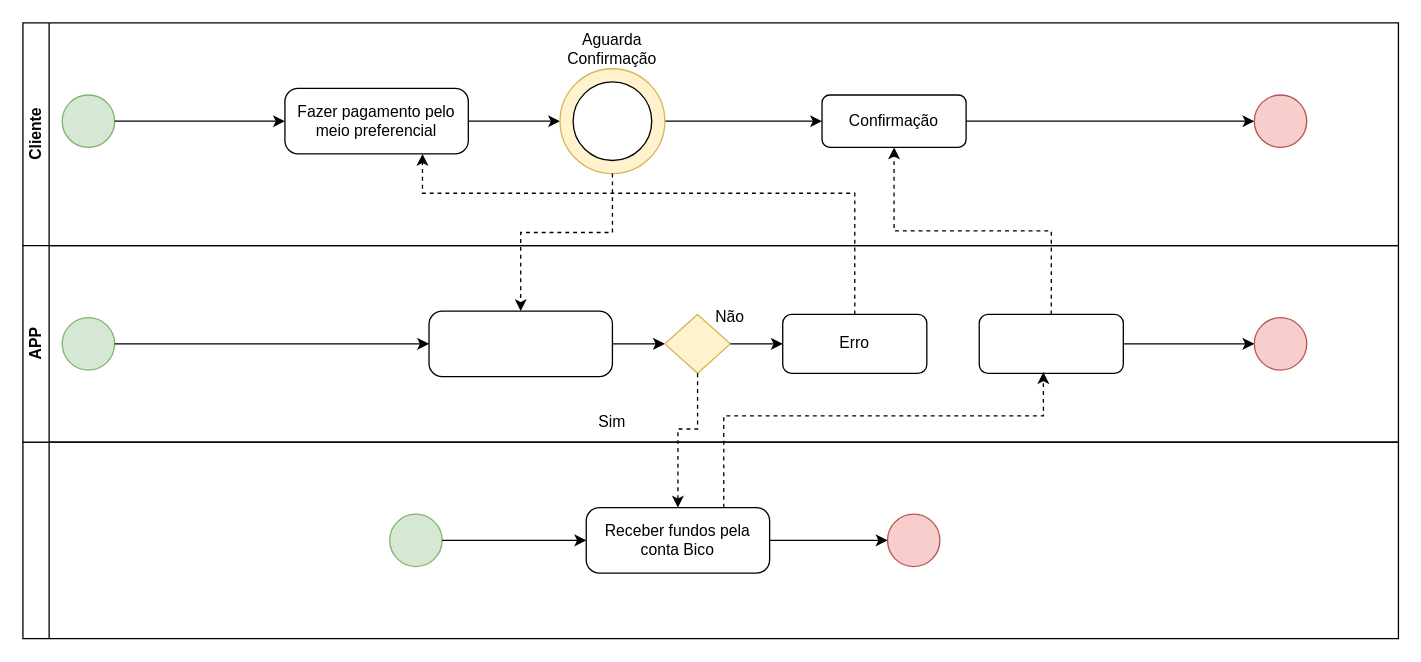
Image size: 1421x662. Some labels were removed from this diagram. Here are the shapes that lost their labels. From the top down, the box of each, then its label:
(428, 310, 612, 377): Confirmação de Pagamento
(978, 313, 1123, 373): Gerar Comprovante
(22, 441, 1398, 639): Trabalhador
